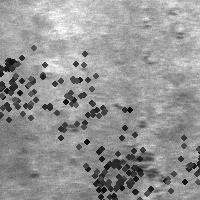rolled-in_scale: (21, 41, 141, 161), (66, 122, 164, 200), (64, 129, 158, 200), (142, 108, 200, 200), (0, 64, 52, 138), (121, 119, 168, 199), (0, 35, 48, 111), (143, 9, 186, 64)
